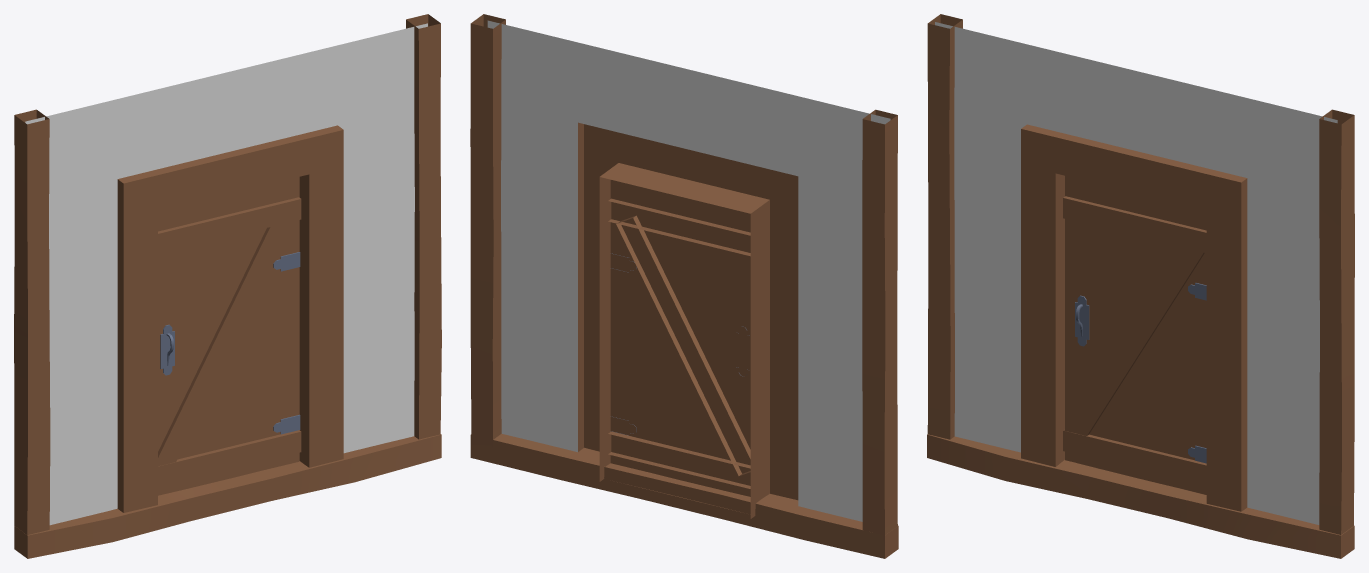
File: PlasterWallDoor.fbx
The picture shows the model from 3 angles, left to right: view 1: azimuth 30°, elevation 25°; view 2: azimuth 150°, elevation 25°; view 3: azimuth 330°, elevation 25°; orthographic projection.
Parts seen in each view (by area): view 1: Plaster Wall Door; view 2: Plaster Wall Door; view 3: Plaster Wall Door.
Part boxes in pixels (x1,y1,x2,y2): Plaster Wall Door: (14,14,441,558); Plaster Wall Door: (470,14,898,558); Plaster Wall Door: (927,14,1354,558).
Bounding box in the file's own units: 206 × 206 × 18.79.
